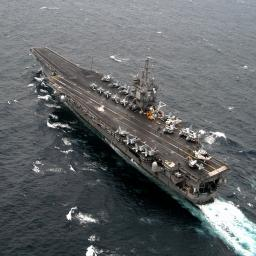Portanaves: (27, 44, 232, 210)
